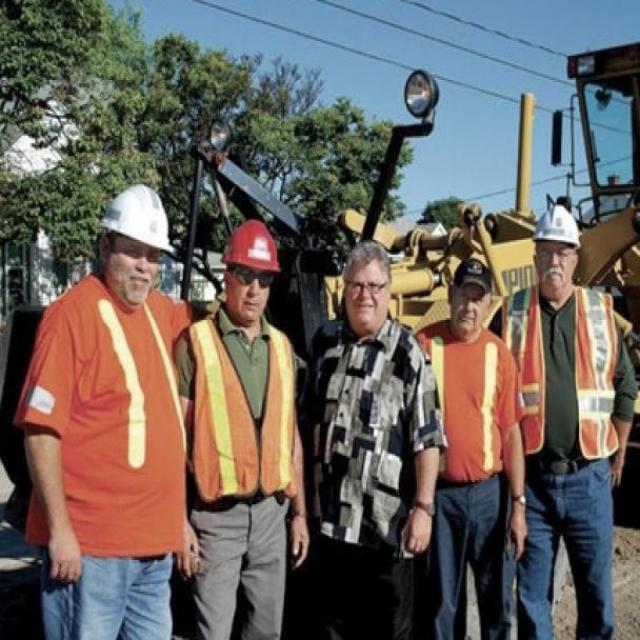helmet: (88, 175, 170, 292), (208, 205, 286, 311), (531, 197, 588, 305)
vest: (47, 257, 186, 547), (191, 305, 301, 497), (509, 288, 630, 454), (417, 308, 519, 480)
